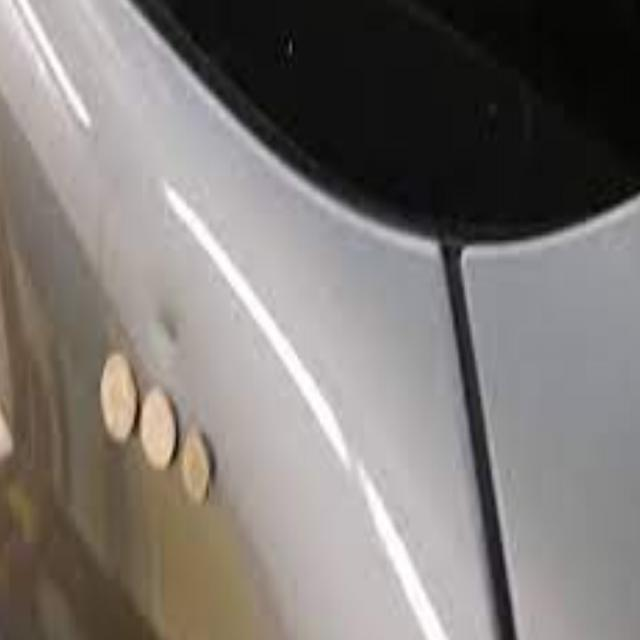dents: (130, 282, 210, 378)
